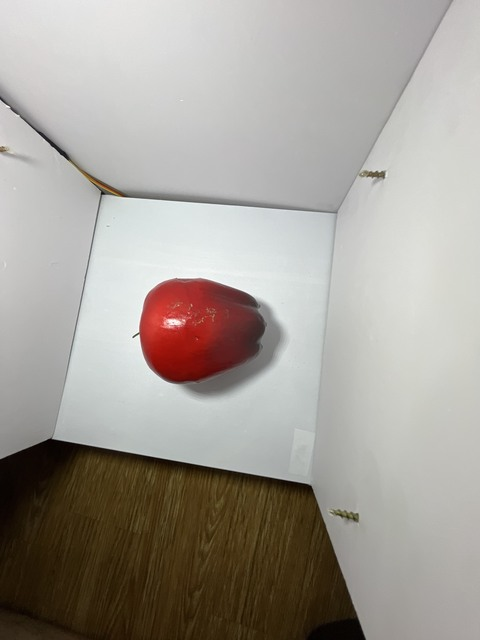Tao: (132, 273, 271, 390)
